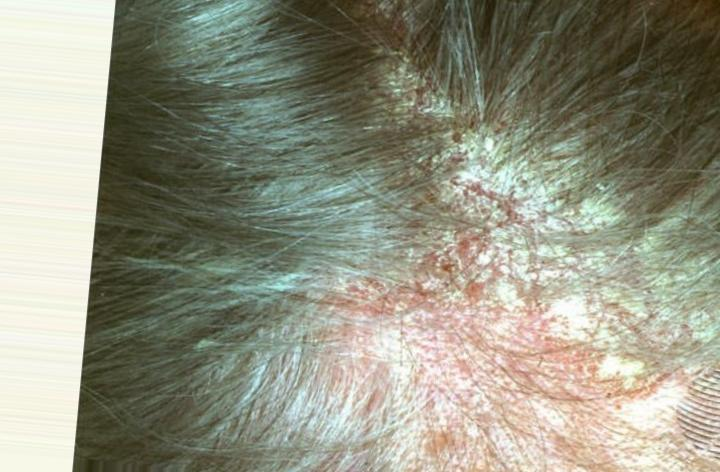Contact Dermatitis: (296, 109, 606, 426)
